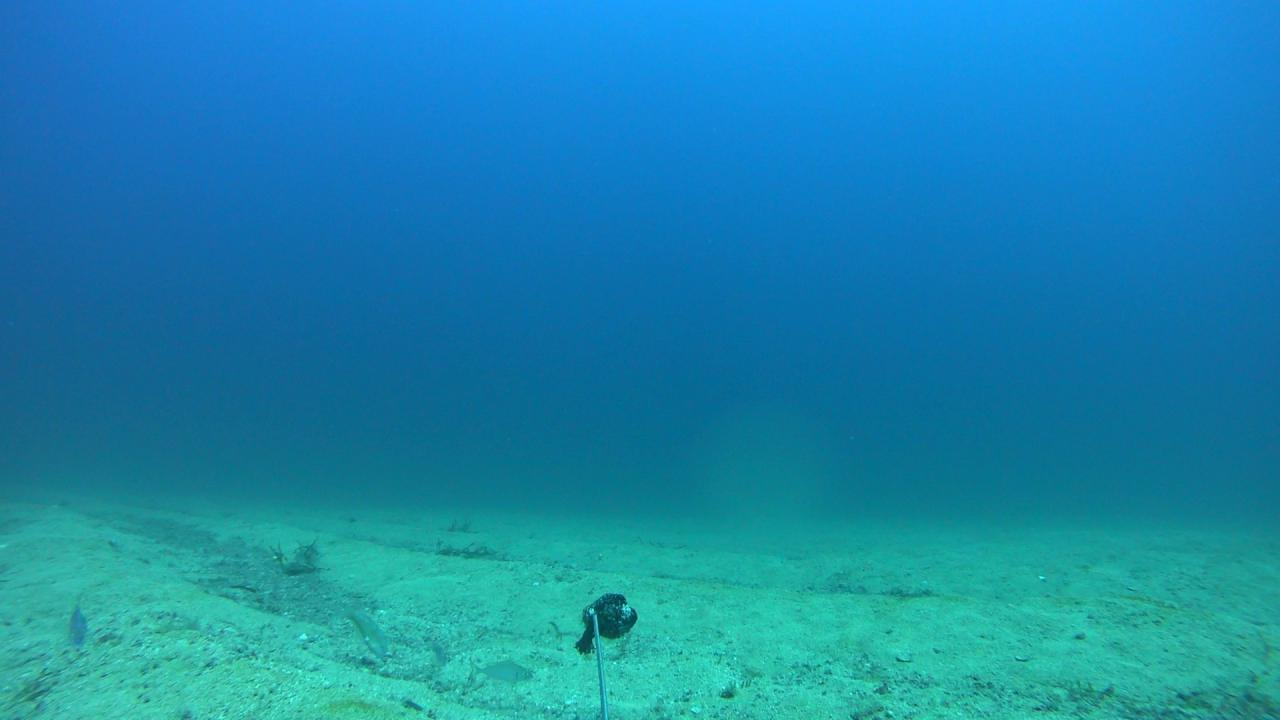pagellus: (468, 659, 534, 685)
